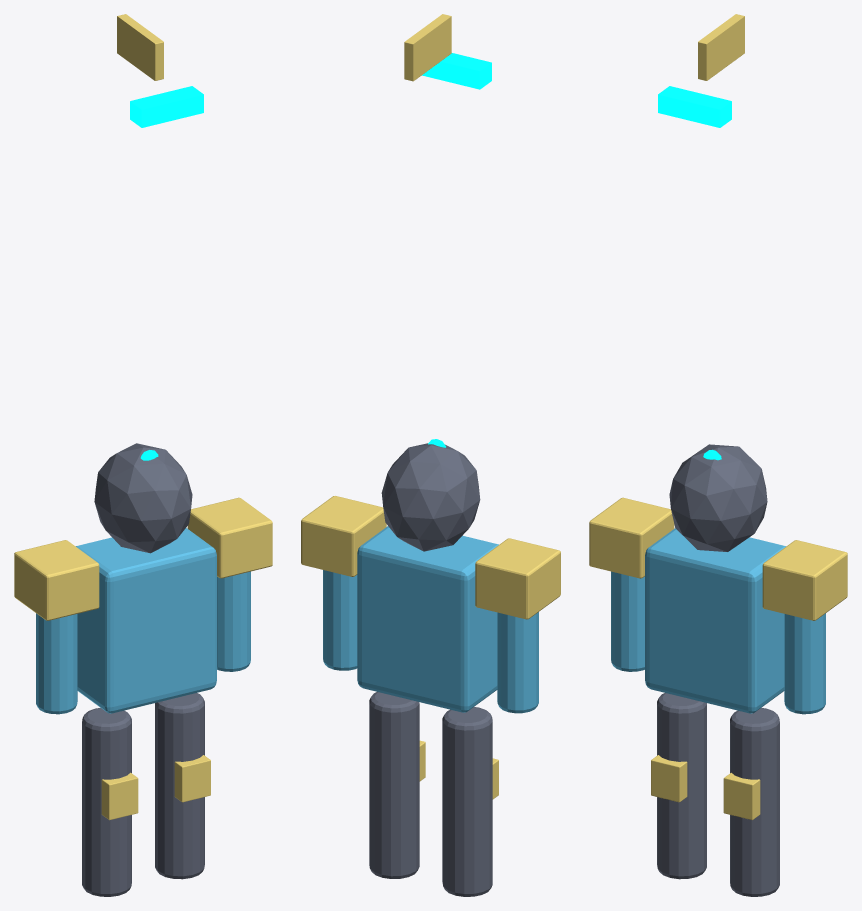
File: fighter_cyber_knight.glb
3 views of the same model, side by side, from view 1: azimuth 30°, elevation 25°; view 2: azimuth 150°, elevation 25°; view 3: azimuth 330°, elevation 25° (orthographic).
Parts seen in each view (by area): view 1: Torso, Head, RightLeg_Mesh, LeftLeg_Mesh, RightArm_Pauldron, LeftArm_Pauldron, RightArm_Mesh, LeftArm_Mesh, HeadVisor, HeadCrest, RightLeg_Knee, LeftLeg_Knee; view 2: Torso, RightLeg_Mesh, LeftLeg_Mesh, Head, RightArm_Pauldron, LeftArm_Pauldron, RightArm_Mesh, LeftArm_Mesh, HeadCrest, HeadVisor; view 3: Torso, Head, LeftLeg_Mesh, RightLeg_Mesh, LeftArm_Pauldron, RightArm_Pauldron, LeftArm_Mesh, RightArm_Mesh, HeadVisor, HeadCrest, LeftLeg_Knee, RightLeg_Knee.
Part boxes in pixels (x1=…): Torso: x1=76, y1=528, x2=216, y2=713; Head: x1=94, y1=443, x2=192, y2=553; RightLeg_Mesh: x1=82, y1=708, x2=131, y2=896; LeftLeg_Mesh: x1=155, y1=693, x2=204, y2=879; RightArm_Pauldron: x1=14, y1=540, x2=99, y2=620; LeftArm_Pauldron: x1=187, y1=497, x2=272, y2=578; RightArm_Mesh: x1=36, y1=613, x2=77, y2=714; LeftArm_Mesh: x1=217, y1=571, x2=250, y2=671; HeadVisor: x1=130, y1=86, x2=203, y2=127; HeadCrest: x1=117, y1=14, x2=163, y2=80; RightLeg_Knee: x1=101, y1=772, x2=138, y2=820; LeftLeg_Knee: x1=174, y1=755, x2=210, y2=802; Torso: x1=357, y1=526, x2=498, y2=712; RightLeg_Mesh: x1=442, y1=707, x2=492, y2=896; LeftLeg_Mesh: x1=369, y1=692, x2=419, y2=878; Head: x1=381, y1=443, x2=480, y2=551; RightArm_Pauldron: x1=475, y1=538, x2=560, y2=619; LeftArm_Pauldron: x1=301, y1=496, x2=386, y2=576; RightArm_Mesh: x1=497, y1=612, x2=538, y2=713; LeftArm_Mesh: x1=323, y1=570, x2=357, y2=670; HeadCrest: x1=404, y1=14, x2=451, y2=81; HeadVisor: x1=422, y1=53, x2=491, y2=89; Torso: x1=645, y1=528, x2=785, y2=713; Head: x1=669, y1=444, x2=767, y2=551; LeftLeg_Mesh: x1=730, y1=708, x2=779, y2=896; RightLeg_Mesh: x1=657, y1=693, x2=706, y2=879; LeftArm_Pauldron: x1=762, y1=540, x2=847, y2=620; RightArm_Pauldron: x1=589, y1=497, x2=674, y2=578; LeftArm_Mesh: x1=784, y1=613, x2=825, y2=714; RightArm_Mesh: x1=611, y1=571, x2=644, y2=671; HeadVisor: x1=658, y1=86, x2=731, y2=127; HeadCrest: x1=698, y1=14, x2=744, y2=80; LeftLeg_Knee: x1=723, y1=772, x2=760, y2=820; RightLeg_Knee: x1=651, y1=755, x2=687, y2=802.
Bounding box in the file's own units: 0.934 × 3.34 × 0.4095.
